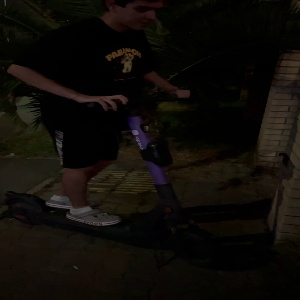human on a scooter: (2, 1, 223, 266)
